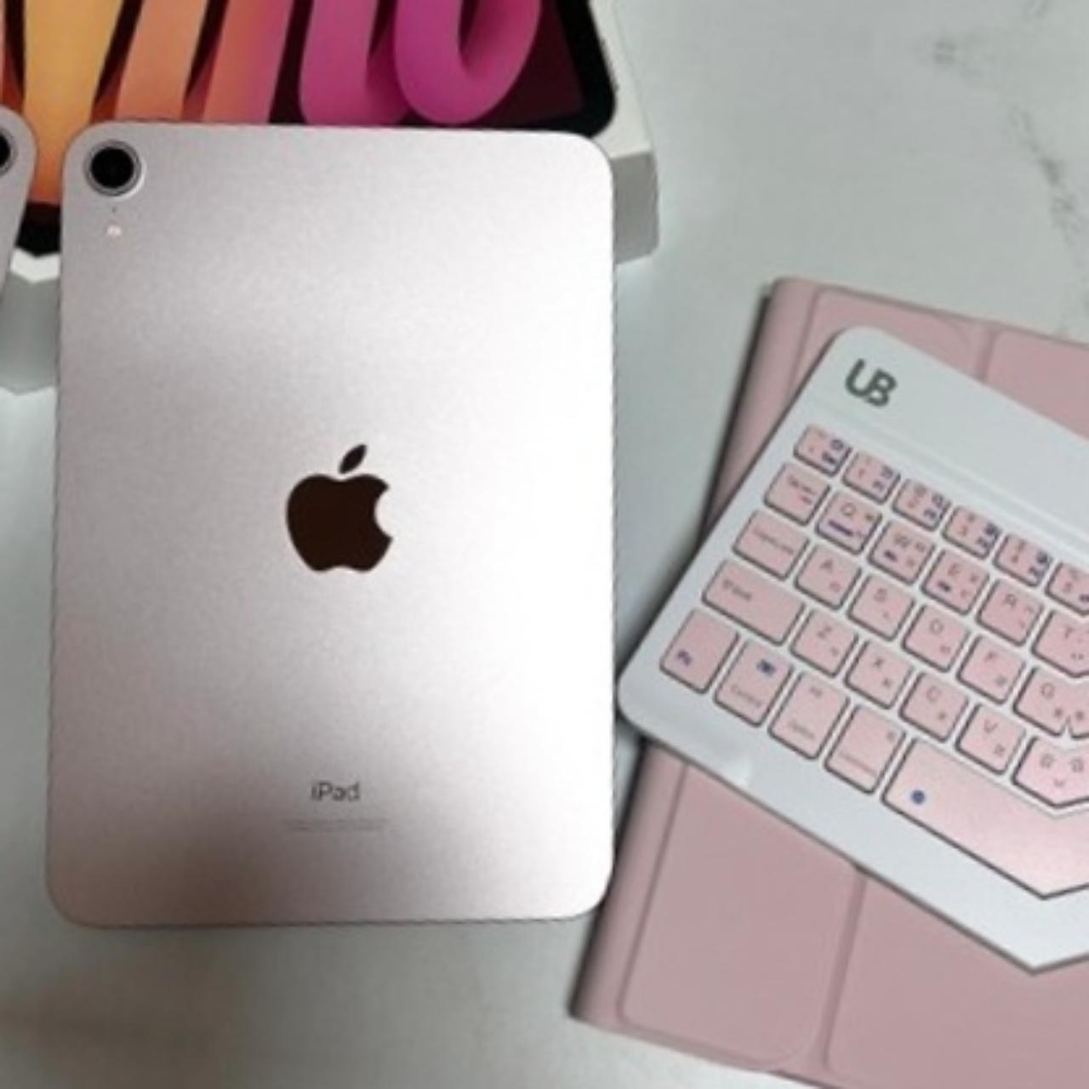Tablet_PC: (0, 54, 733, 993)
